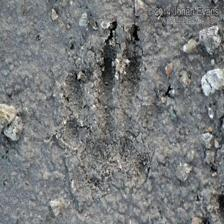squirrel: (50, 15, 166, 202)
